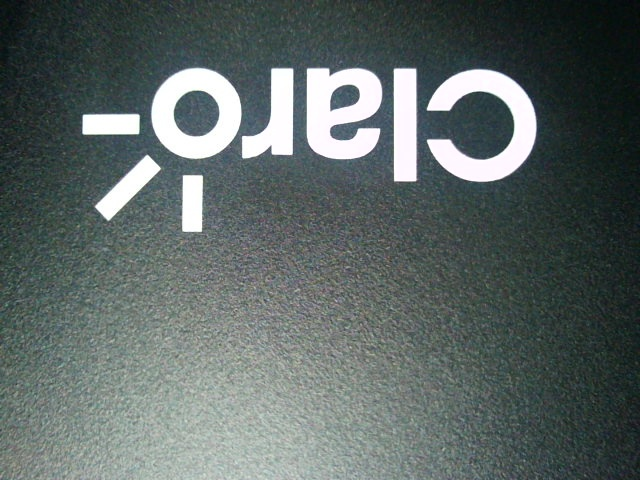BC_Claor: (79, 44, 540, 244)
